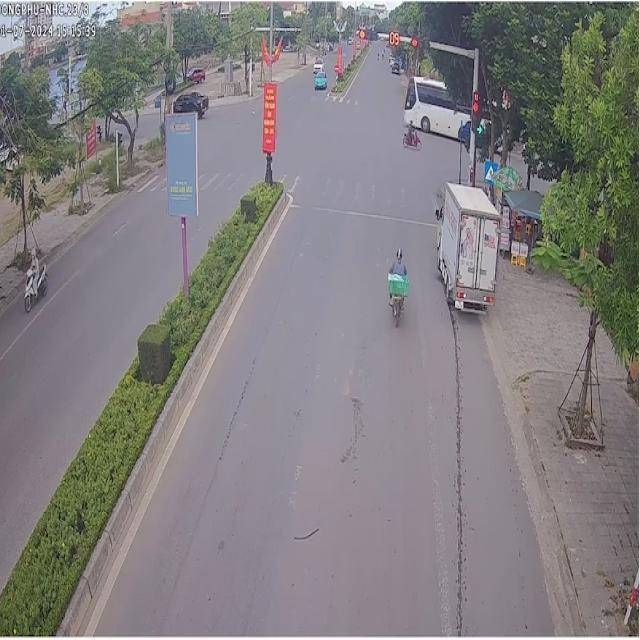car: (434, 182, 498, 309), (402, 75, 468, 135), (172, 90, 207, 115), (313, 70, 324, 88)
motobike: (386, 246, 407, 322), (22, 261, 46, 310), (400, 121, 419, 146)
red_light: (470, 89, 479, 132), (358, 26, 378, 38), (411, 35, 427, 50), (387, 29, 398, 44)
stop_line: (290, 203, 433, 225)
